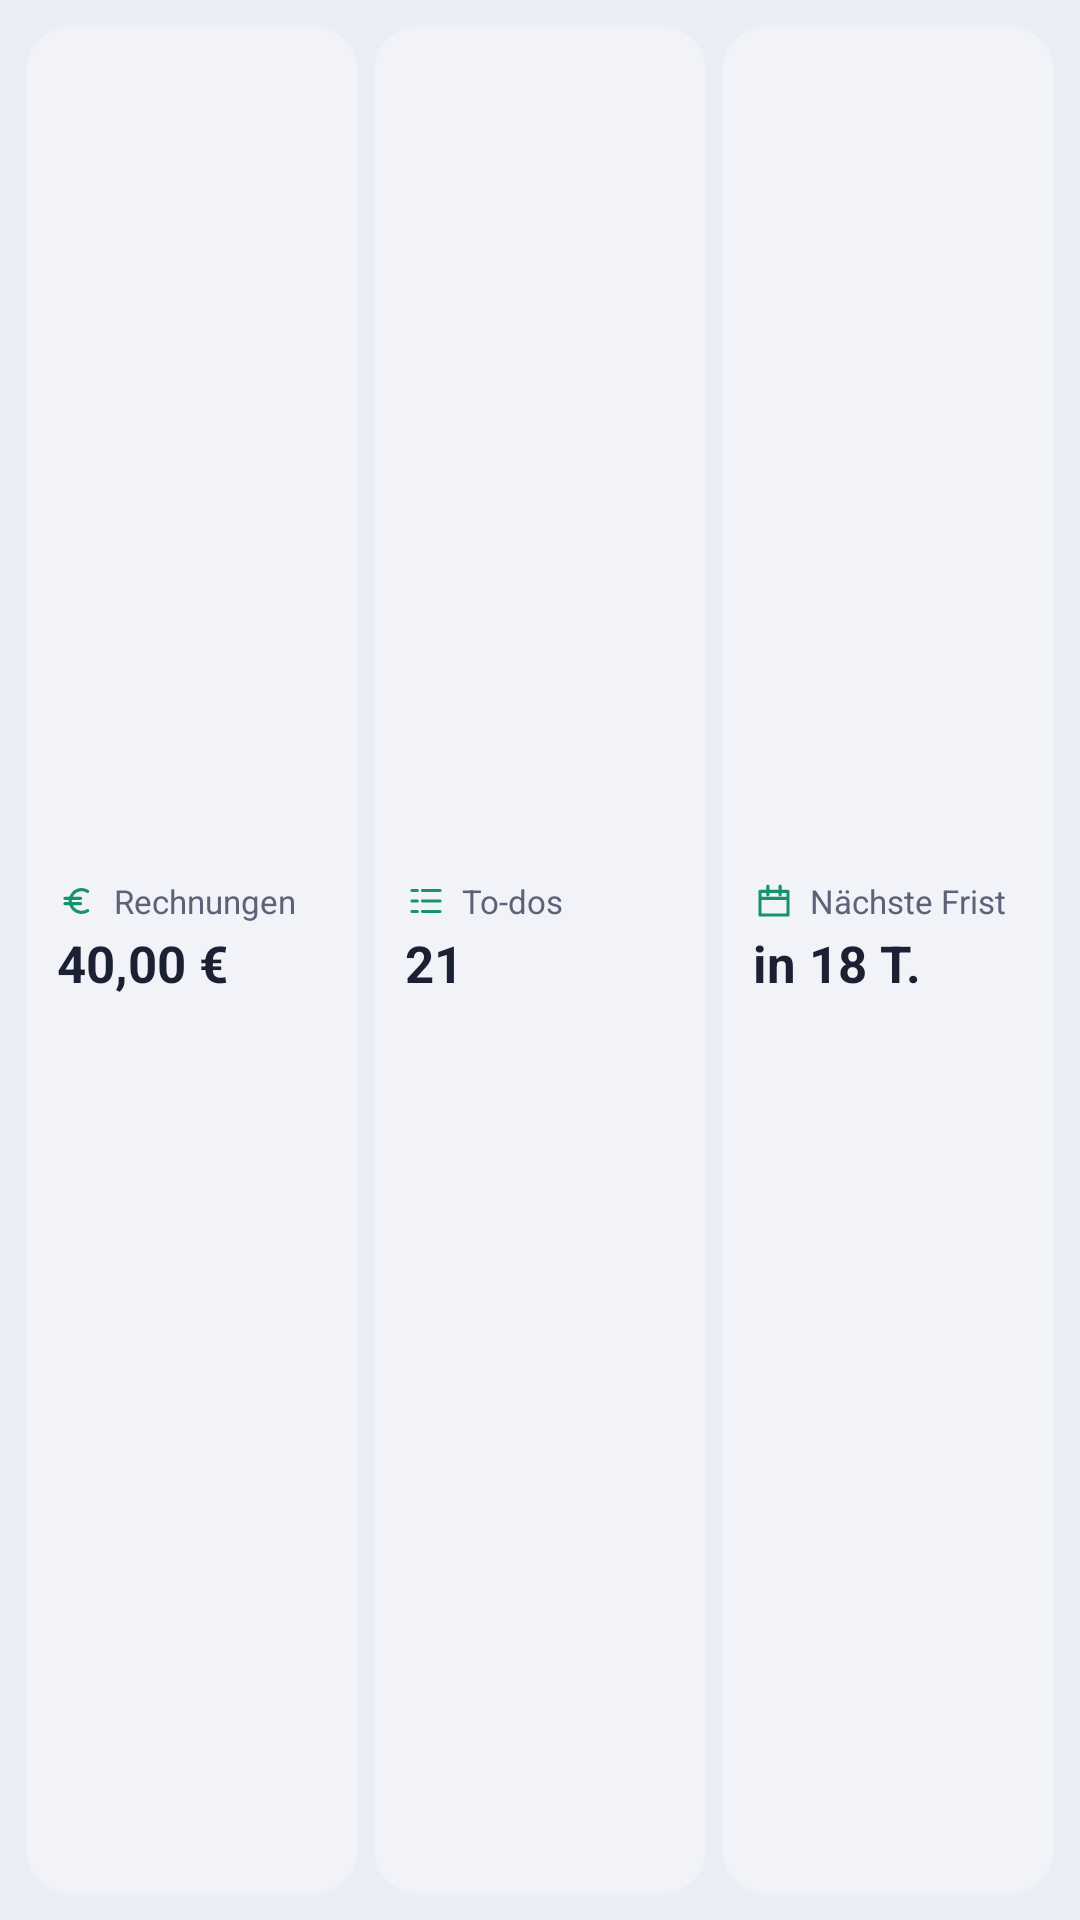

Where icons sit on this 1080x1920 app screen, as Rect(x1, y1, x2, y2):
calendar: Rect(758, 884, 790, 917)
euro: Rect(63, 888, 90, 914)
tasks: Rect(410, 889, 442, 913)
